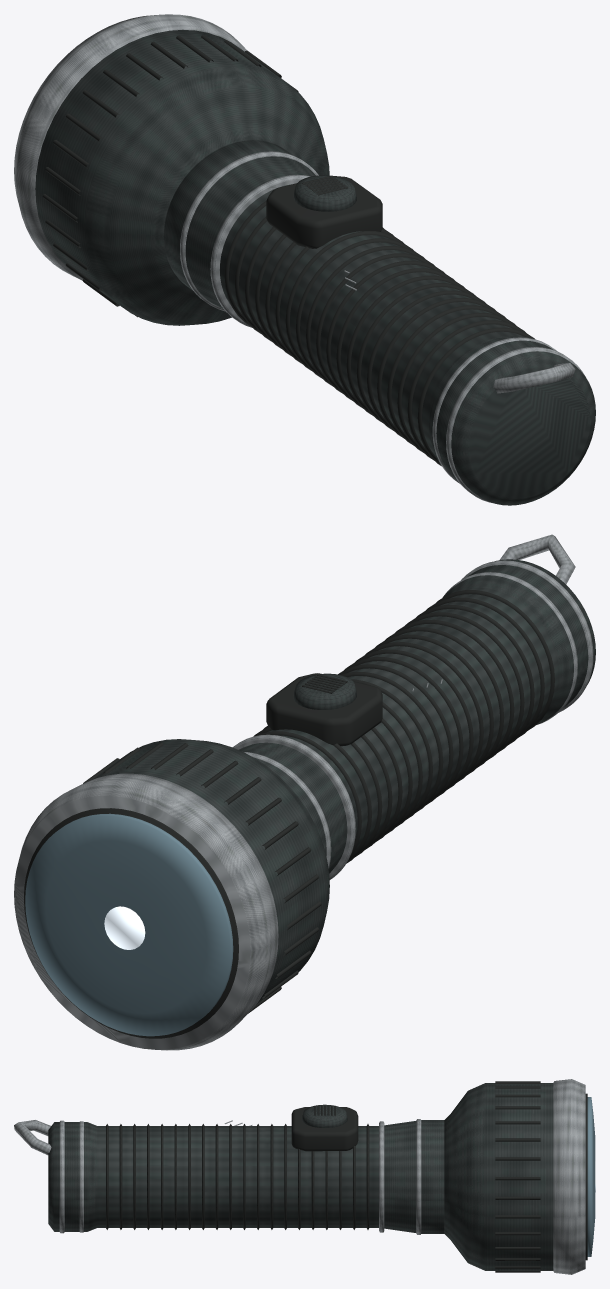
File: gear-flashlight.glb
3 views of the same model, one above another, from view 1: azimuth 30°, elevation 25°; view 2: azimuth 150°, elevation 25°; view 3: azimuth 270°, elevation 25° (orthographic). The views are drawn at different scales.
Visible parts, largest first — view 1: gear-flashlight; view 2: gear-flashlight; view 3: gear-flashlight.
Boxes of the visible parts, <box> form: gear-flashlight: <box>14,14,595,505</box>; gear-flashlight: <box>14,534,595,1050</box>; gear-flashlight: <box>14,1079,595,1274</box>.
Bounding box in the file's own units: 0.1 × 0.1 × 0.2969.
Materials: 5 (2 with a texture image).
